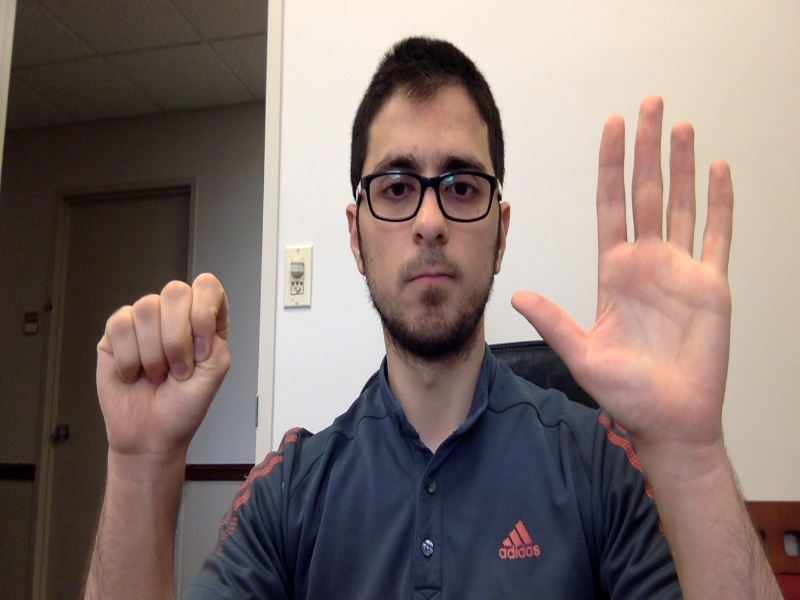0-hand: (95, 274, 230, 450)
5-hand: (510, 97, 733, 439)
